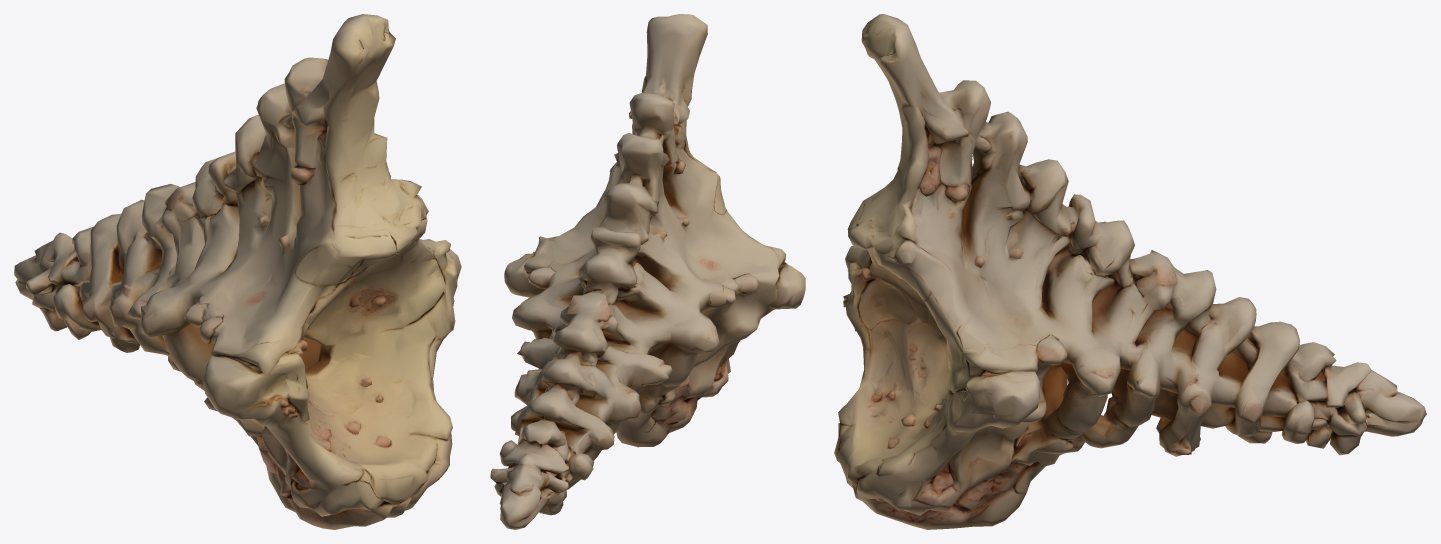
Rendered from vertebra.glb.
3 renders of one model, left to right at view 1: azimuth 30°, elevation 25°; view 2: azimuth 150°, elevation 25°; view 3: azimuth 270°, elevation 25°, orthographic. The views are drawn at different scales.
Visible parts, largest first — view 1: tripo_node_18b617e8-7065-4722-acfb-546237feac38; view 2: tripo_node_18b617e8-7065-4722-acfb-546237feac38; view 3: tripo_node_18b617e8-7065-4722-acfb-546237feac38.
Boxes of the visible parts, x1,y1,x2,y2 form: tripo_node_18b617e8-7065-4722-acfb-546237feac38: [14, 14, 461, 529]; tripo_node_18b617e8-7065-4722-acfb-546237feac38: [490, 14, 805, 529]; tripo_node_18b617e8-7065-4722-acfb-546237feac38: [834, 14, 1426, 529].
Bounding box in the file's own units: 0.5858 × 0.9354 × 1.
Materials: 1 (1 with a texture image).
